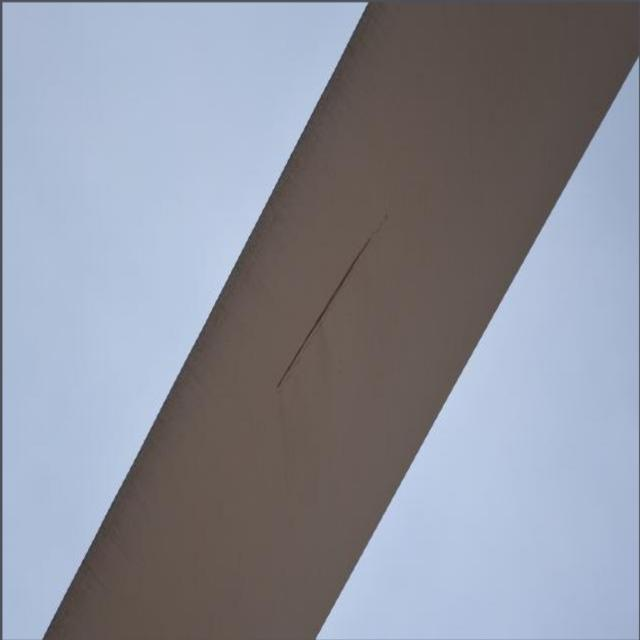Crack: (276, 213, 384, 390)
